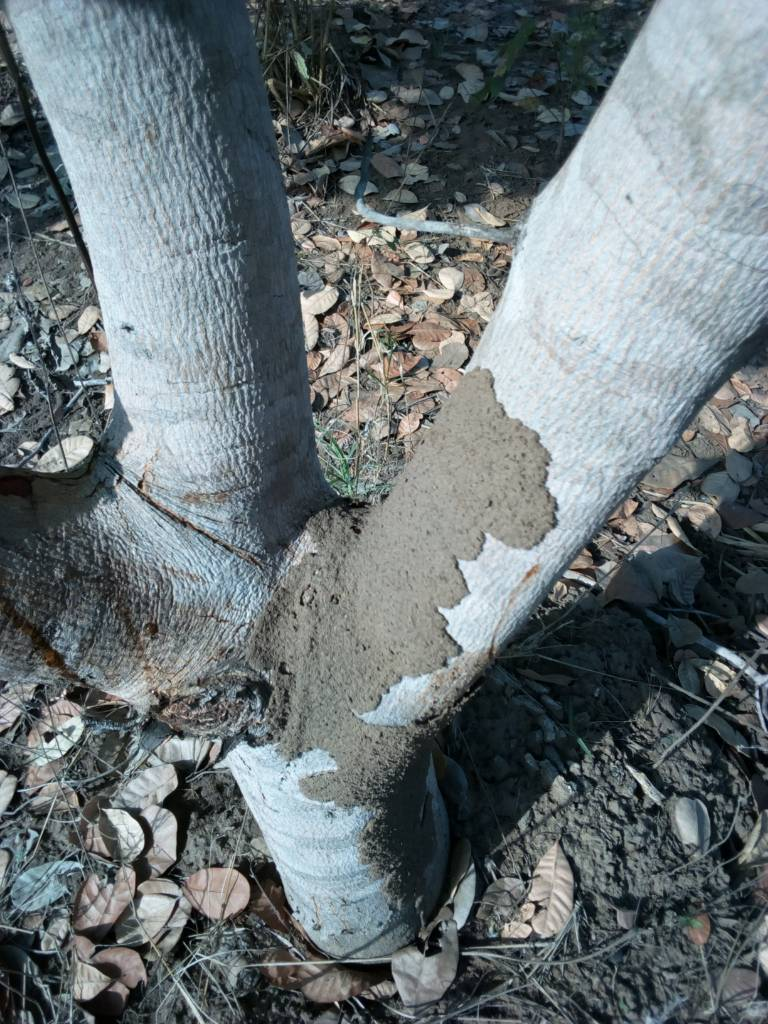Termites: (282, 359, 543, 771)
